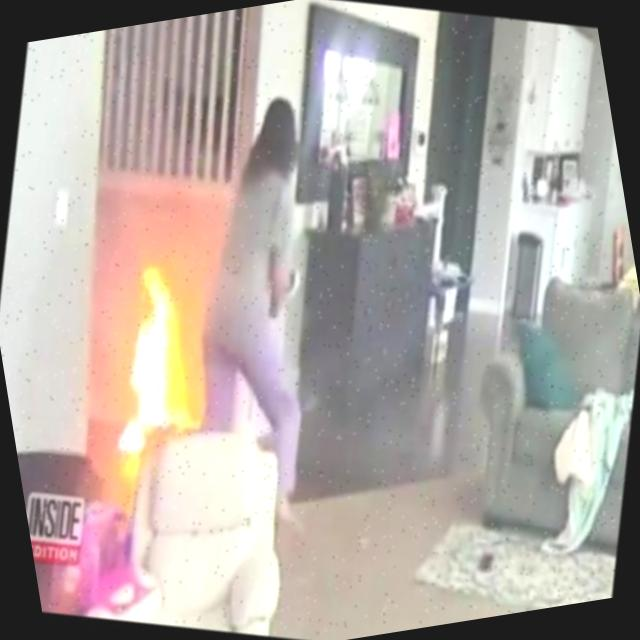fire: (58, 232, 260, 494)
